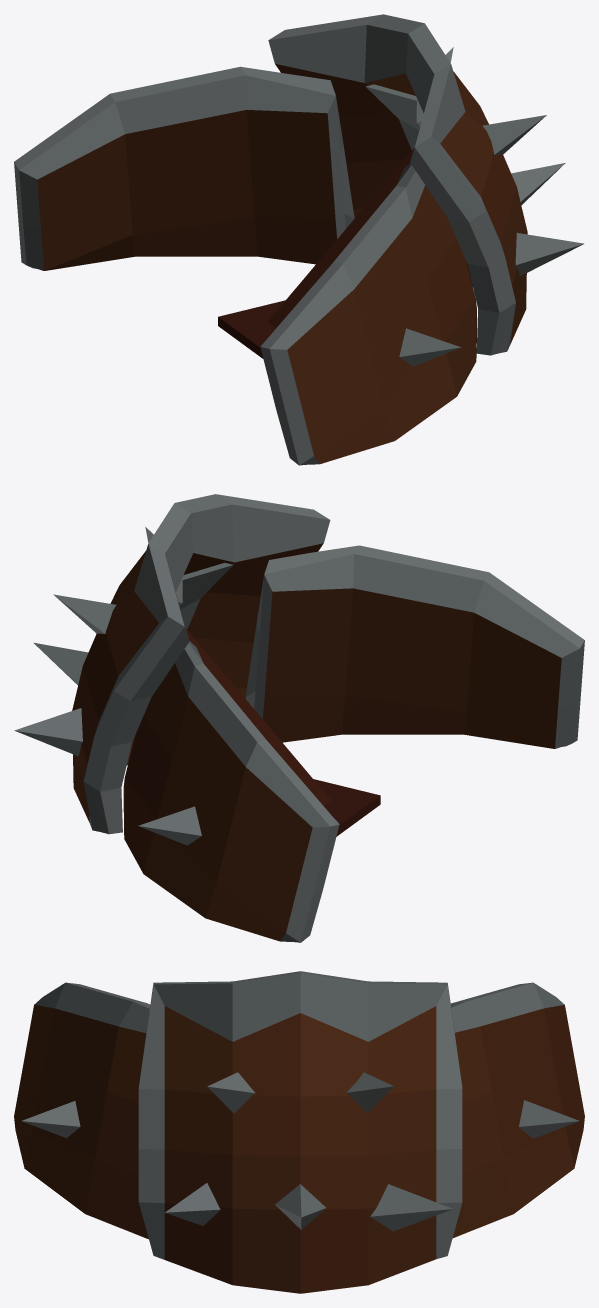
Rendered from turet_lv2.fbx.
3 renders of one model, top to bottom at view 1: azimuth 30°, elevation 25°; view 2: azimuth 150°, elevation 25°; view 3: azimuth 270°, elevation 25°, orthographic.
Parts seen in each view (by area): view 1: Cube_2, Cube_1, Cube, Cube_4, Cube_3, Plane_2, Cube_5, Plane_6, Plane, Plane_4; view 2: Cube_1, Cube_2, Cube, Cube_4, Cube_3, Plane_3, Cube_5, Plane_5, Plane_1, Plane_4; view 3: Cube, Cube_1, Cube_2, Plane_3, Plane_5, Plane_2, Plane_4, Plane_6, Plane, Plane_1.
Boxes of the visible parts, x1,y1,x2,y2 form: Cube_2: (14, 66, 354, 270); Cube_1: (260, 163, 476, 465); Cube: (268, 14, 527, 355); Cube_4: (267, 148, 414, 328); Cube_3: (218, 300, 285, 358); Plane_2: (515, 233, 584, 275); Cube_5: (365, 84, 423, 150); Plane_6: (399, 328, 461, 366); Plane: (482, 115, 546, 154); Plane_4: (511, 163, 565, 205); Cube_1: (245, 545, 584, 748); Cube_2: (123, 640, 339, 942); Cube: (72, 494, 330, 834); Cube_4: (185, 628, 331, 805); Cube_3: (313, 779, 380, 836); Plane_3: (14, 708, 82, 756); Cube_5: (175, 563, 233, 629); Plane_5: (138, 806, 201, 845); Plane_1: (53, 594, 116, 633); Plane_4: (33, 642, 88, 684); Cube: (138, 971, 462, 1293); Cube_1: (14, 982, 150, 1239); Cube_2: (450, 982, 584, 1237); Plane_3: (370, 1184, 452, 1231); Plane_5: (519, 1100, 579, 1138); Plane_2: (165, 1183, 220, 1225); Plane_4: (275, 1184, 325, 1229); Plane_6: (21, 1101, 80, 1137); Plane: (207, 1072, 255, 1113); Plane_1: (346, 1072, 393, 1112).
Size of the model in its own units: 482 by 300 by 555.
